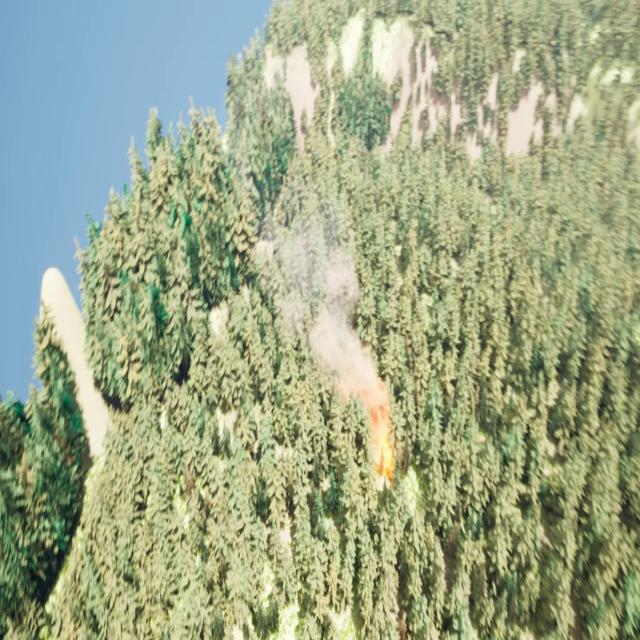fire: (368, 404, 402, 488)
smoke: (259, 198, 389, 416)
